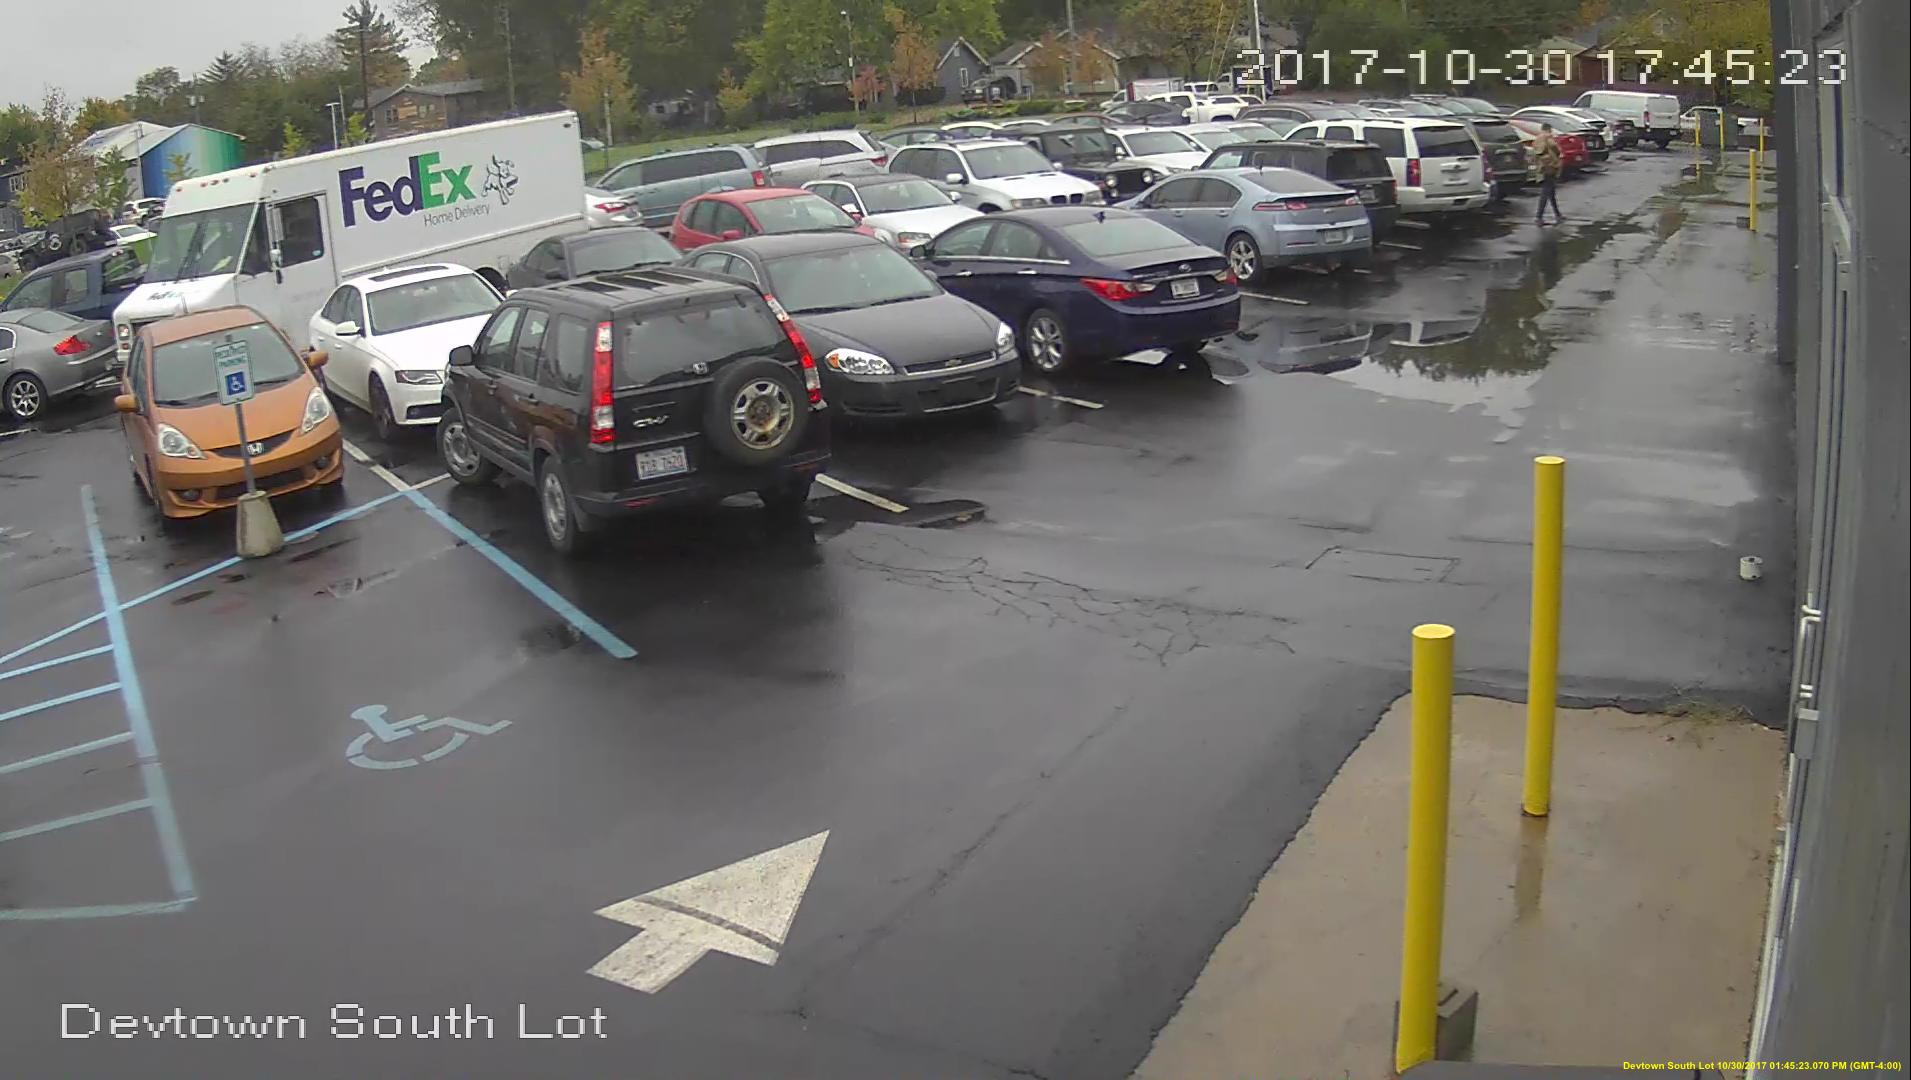fedex_truck: (143, 130, 575, 367)
